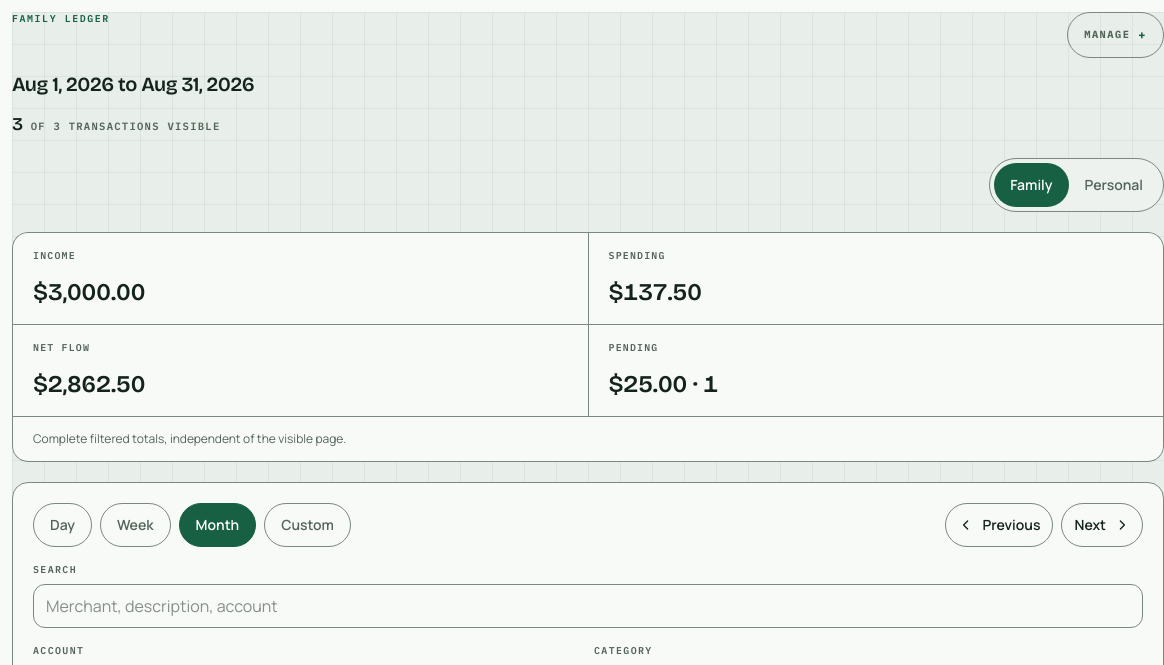
Test: GH-30 transaction explorer › COMP-017 discards custom dates that were typed but never applied
Click the button with test id "transactions-period-custom" at {"x": 308, "y": 525}, box [264,503,351,547]
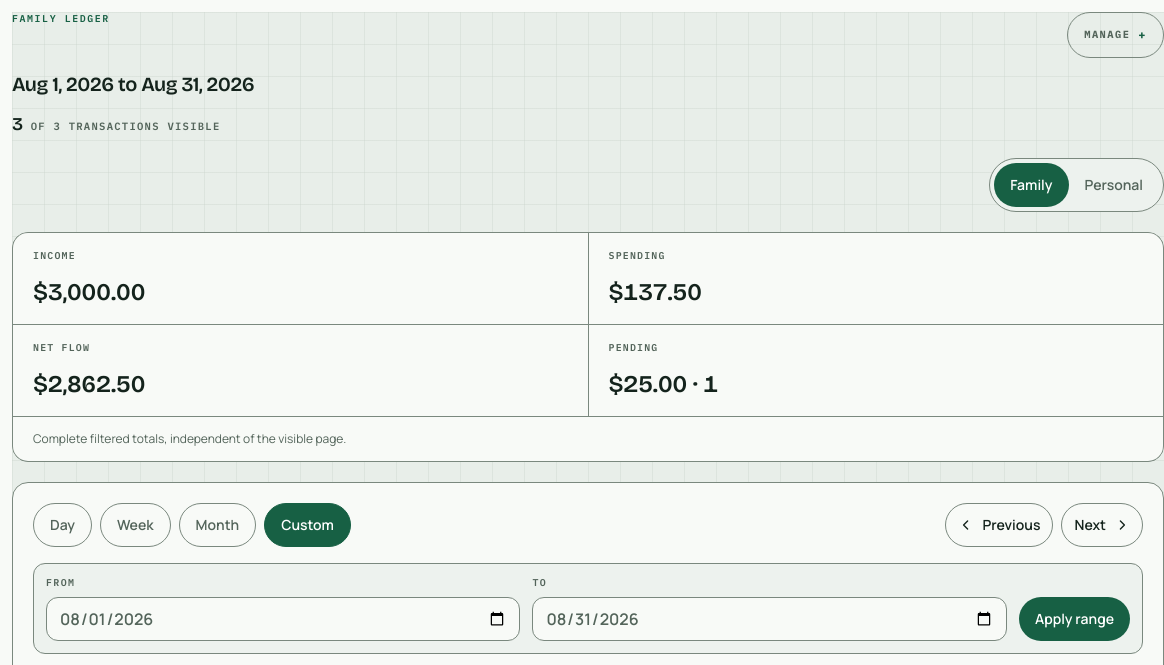
Type "1999-01-01" into the date field with test id "transactions-custom-from" at {"x": 283, "y": 619}, box [46,597,520,641]
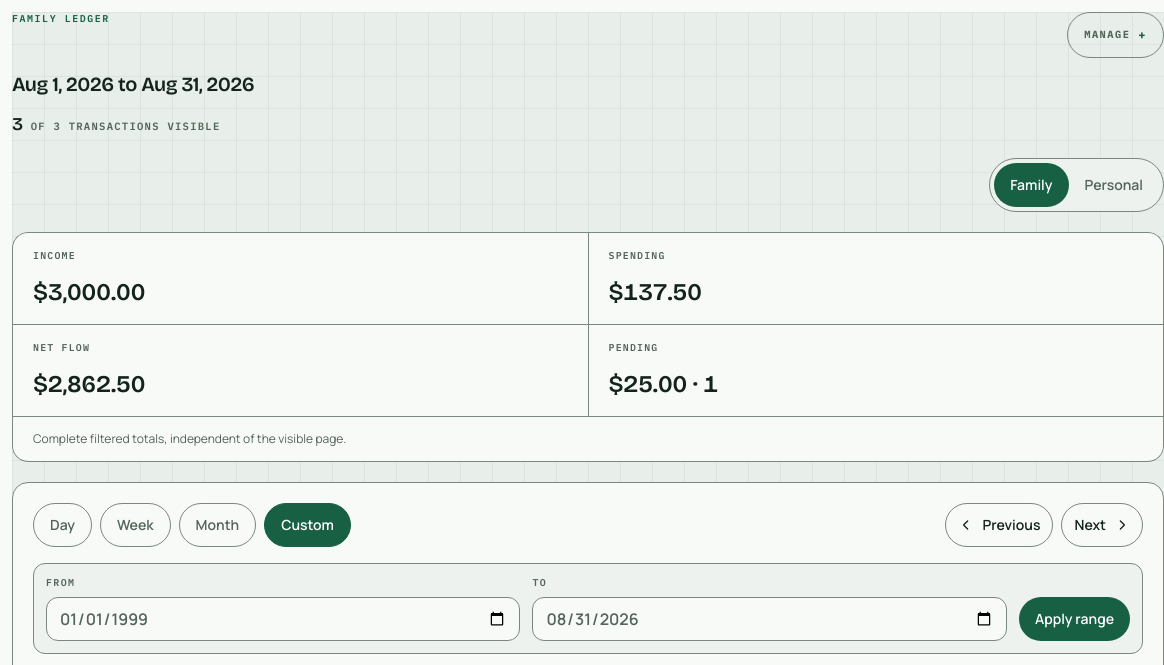
Type "1999-01-31" into the date field with test id "transactions-custom-to" at {"x": 770, "y": 619}, box [532,597,1007,641]
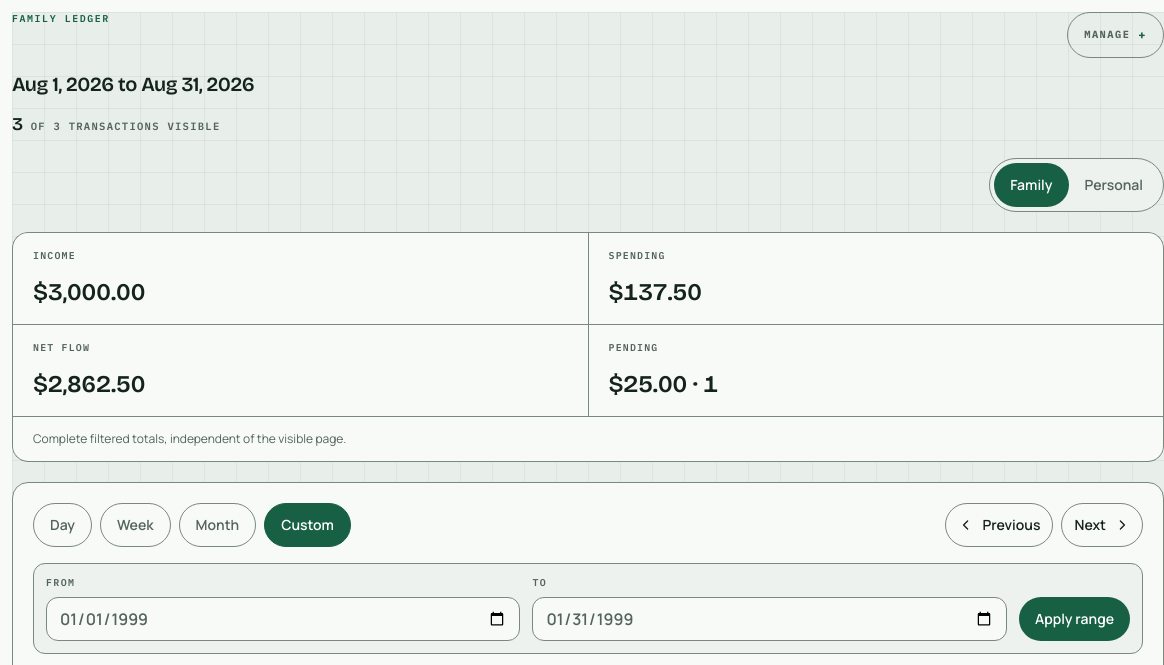
// Leave without applying, then come back.
Click the button with test id "transactions-period-month" at {"x": 217, "y": 525}, box [179,503,256,547]
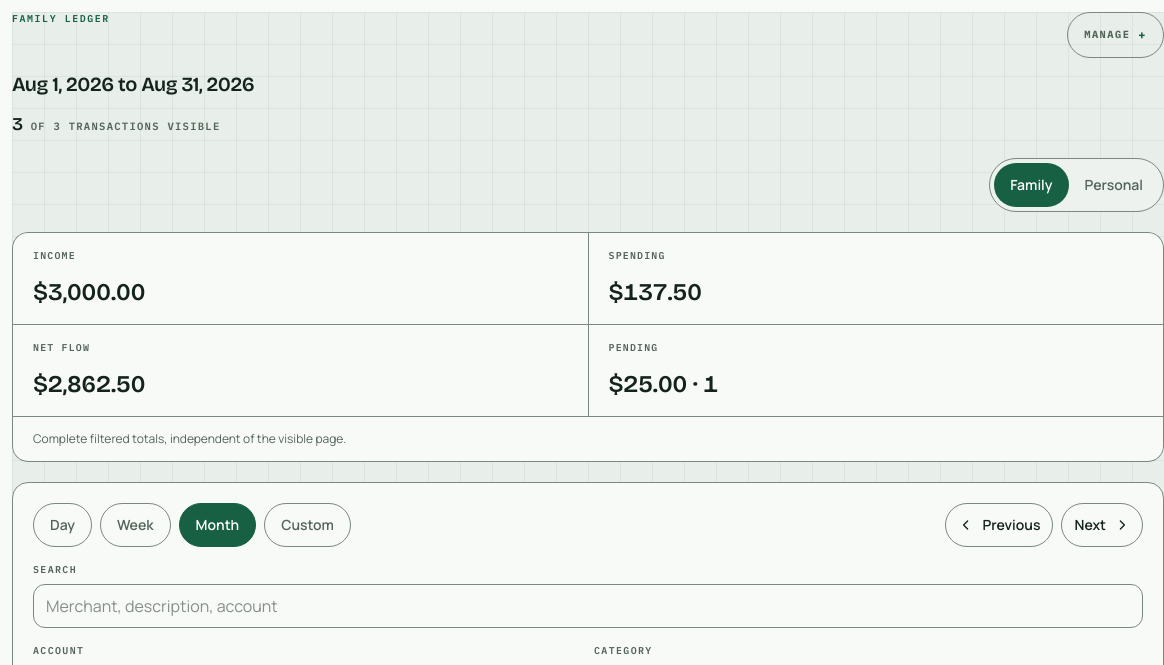
Click the button with test id "transactions-period-custom" at {"x": 308, "y": 525}, box [264,503,351,547]
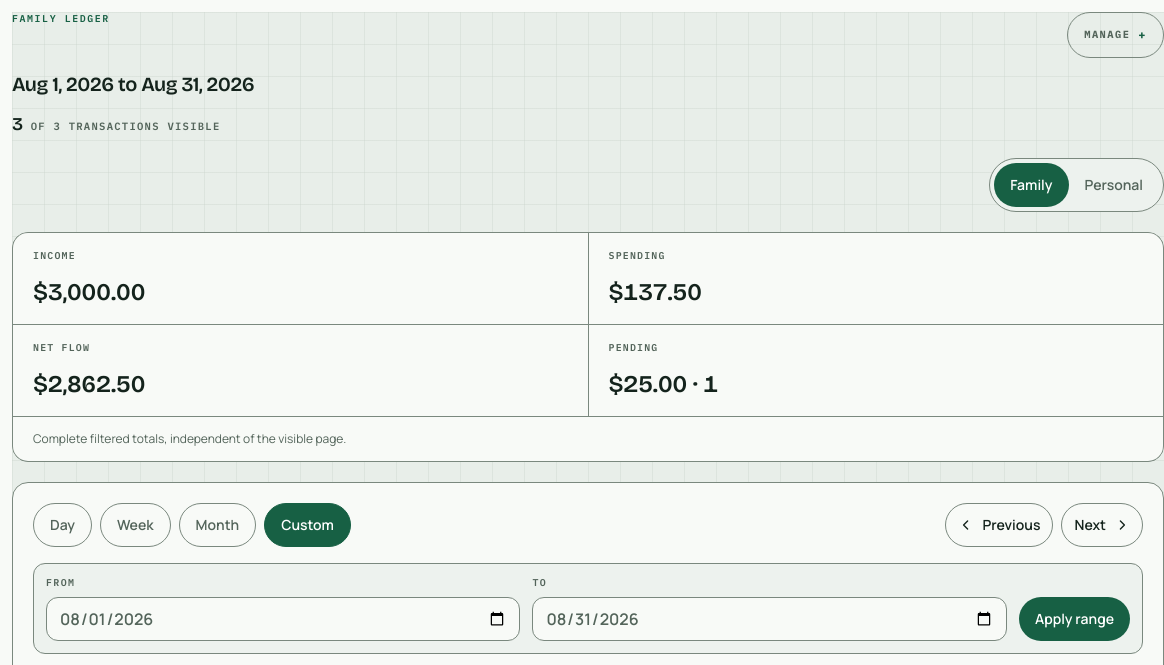
Check: the date field with test id "transactions-custom-from" holds "2026-08-01", box [46,597,520,641]
Check: the date field with test id "transactions-custom-to" holds "2026-08-31", box [532,597,1007,641]
